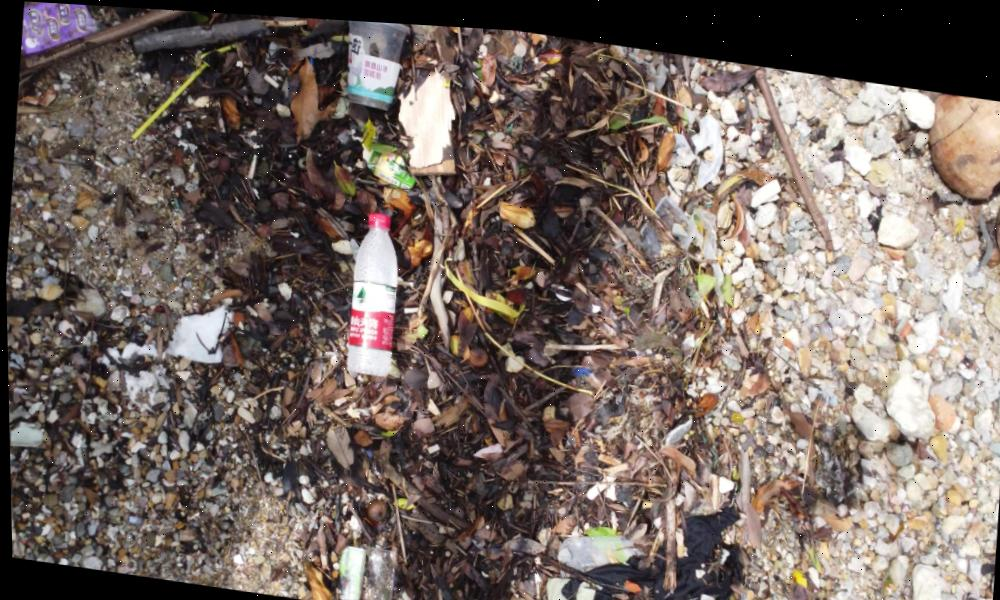carton: (19, 1, 106, 69)
plastic bottle: (326, 180, 414, 389)
plastic container: (329, 15, 419, 132)
